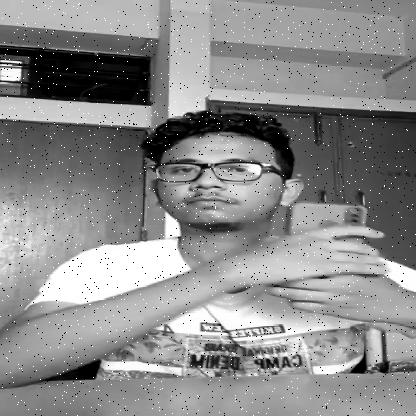Normal: (118, 124, 276, 225)
